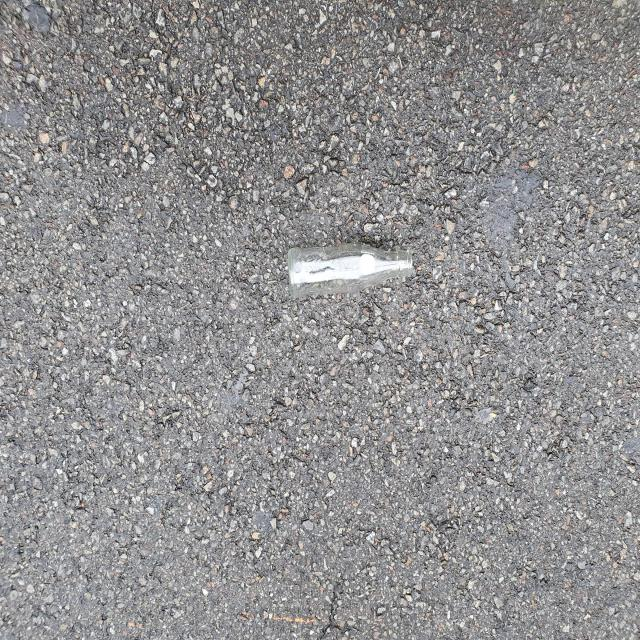glass: (288, 244, 413, 297)
